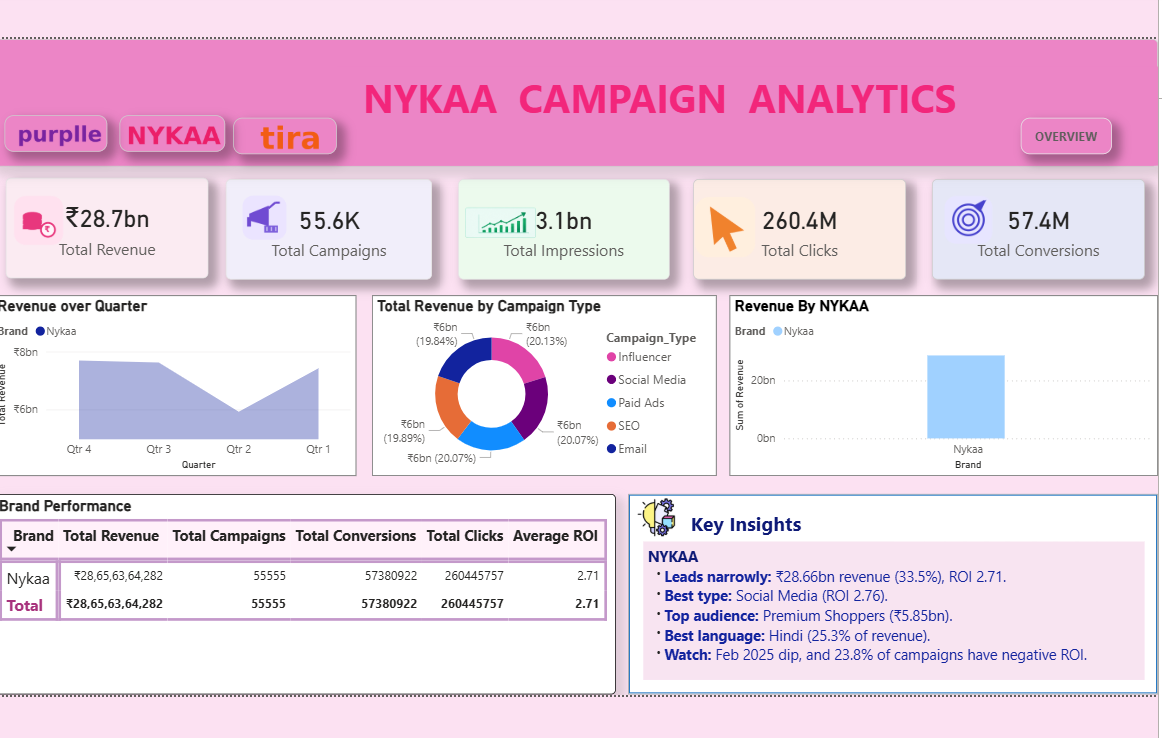

This screenshot's page, from the dashboard's own definition file:
{"tool":"powerbi","page":{"name":"NYKAA","canvas":[1280,720],"ordinal":1},"visuals":[{"type":"card","fields":{"Values":["Tira_Purplle_Nykaa_Marketing_Campaign_Analytics_166665.Total Campaigns"]},"box":[256.7,153.3,226.7,110],"z":0},{"type":"card","fields":{"Values":["Tira_Purplle_Nykaa_Marketing_Campaign_Analytics_166665.Total Impressions"]},"box":[511.7,153.3,231.7,110],"z":1000},{"type":"card","fields":{"Values":["Tira_Purplle_Nykaa_Marketing_Campaign_Analytics_166665.Total Revenue"]},"box":[14.7,152.9,222.6,110.1],"z":2000},{"type":"card","fields":{"Values":["Tira_Purplle_Nykaa_Marketing_Campaign_Analytics_166665.Total Clicks"]},"box":[770,153.3,233.3,110],"z":3000},{"type":"card","fields":{"Values":["Tira_Purplle_Nykaa_Marketing_Campaign_Analytics_166665.Total Conversions"]},"box":[1031.7,153.3,233.3,110],"z":4000},{"type":"textbox","box":[0,0,1280.3,140],"z":5000},{"type":"areaChart","title":"Revenue over Quarter","fields":{"Category":["Tira_Purplle_Nykaa_Marketing_Campaign_Analytics_166665.Date.Variation.Date Hierarchy.Year","Tira_Purplle_Nykaa_Marketing_Campaign_Analytics_166665.Date.Variation.Date Hierarchy.Quarter","Tira_Purplle_Nykaa_Marketing_Campaign_Analytics_166665.Date.Variation.Date Hierarchy.Month","Tira_Purplle_Nykaa_Marketing_Campaign_Analytics_166665.Date.Variation.Date Hierarchy.Day"],"Y":["Tira_Purplle_Nykaa_Marketing_Campaign_Analytics_166665.Total Revenue"],"Series":["Tira_Purplle_Nykaa_Marketing_Campaign_Analytics_166665.Brand"]},"box":[0,281.7,400,198.3],"z":6000},{"type":"donutChart","title":"Total Revenue by Campaign Type","fields":{"Category":["Tira_Purplle_Nykaa_Marketing_Campaign_Analytics_166665.Campaign_Type"],"Y":["Tira_Purplle_Nykaa_Marketing_Campaign_Analytics_166665.Total Revenue"]},"box":[416.7,281.7,378.3,198.3],"z":7000},{"type":"clusteredColumnChart","title":"Revenue By NYKAA","fields":{"Y":["Sum(Tira_Purplle_Nykaa_Marketing_Campaign_Analytics_166665.Revenue)"],"Category":["Tira_Purplle_Nykaa_Marketing_Campaign_Analytics_166665.Brand"],"Series":["Tira_Purplle_Nykaa_Marketing_Campaign_Analytics_166665.Brand"]},"box":[810,281.7,470,198.3],"z":8000},{"type":"pivotTable","title":"Brand Performance","fields":{"Rows":["Tira_Purplle_Nykaa_Marketing_Campaign_Analytics_166665.Brand"],"Values":["Tira_Purplle_Nykaa_Marketing_Campaign_Analytics_166665.Total Revenue","Tira_Purplle_Nykaa_Marketing_Campaign_Analytics_166665.Total Campaigns","Tira_Purplle_Nykaa_Marketing_Campaign_Analytics_166665.Total Conversions","Tira_Purplle_Nykaa_Marketing_Campaign_Analytics_166665.Total Clicks","Tira_Purplle_Nykaa_Marketing_Campaign_Analytics_166665.Average ROI"]},"box":[0,500.1,684.8,220.1],"z":9000},{"type":"shape","box":[698.3,500,581.7,220],"z":10000},{"type":"textbox","box":[715,511.7,551.7,40],"z":11000},{"type":"image","box":[114.9,63.6,168.8,81.9],"z":12000},{"type":"image","box":[0,64.8,149.2,81.9],"z":13000},{"type":"image","box":[222.6,6.1,211.6,201.8],"z":14000},{"type":"image","box":[1002.7,163.9,137,70.9],"z":15000},{"type":"image","box":[761.7,163.3,86.7,86.7],"z":16000},{"type":"image","box":[256.8,163.9,84.4,66],"z":17000},{"type":"image","box":[14.7,121.1,72.1,156.5],"z":18000},{"type":"image","box":[511.7,140,93.3,123.3],"z":19000},{"type":"image","box":[681.7,500,95,51.7],"z":20000},{"type":"textbox","box":[379.1,30.6,901.2,108.8],"z":21000},{"type":"actionButton","title":" VVVVV","box":[1128.7,86.8,100.3,40.4],"z":22000},{"type":"actionButton","box":[13.5,84.4,112.5,40.4],"z":23000},{"type":"actionButton","box":[140.6,84.4,116.2,40.4],"z":24000},{"type":"actionButton","box":[265.4,86.8,113.7,40.4],"z":25000},{"type":"textbox","box":[714.9,551.6,550.3,152.3],"z":26000}]}

Visuals, with their boxes on the page's 1280x720 design canvas (x1, y1, x2, y2). These are canvas units, not pixel positions in the 1162x738 screenshot, which may show the page scaled, cropped or inside an application window:
card - Tira_Purplle_Nykaa_Marketing_Campaign_Analytics_166665.Total Campaigns: x1=257, y1=153, x2=483, y2=263
card - Tira_Purplle_Nykaa_Marketing_Campaign_Analytics_166665.Total Impressions: x1=512, y1=153, x2=743, y2=263
card - Tira_Purplle_Nykaa_Marketing_Campaign_Analytics_166665.Total Revenue: x1=15, y1=153, x2=237, y2=263
card - Tira_Purplle_Nykaa_Marketing_Campaign_Analytics_166665.Total Clicks: x1=770, y1=153, x2=1003, y2=263
card - Tira_Purplle_Nykaa_Marketing_Campaign_Analytics_166665.Total Conversions: x1=1032, y1=153, x2=1265, y2=263
textbox: x1=0, y1=0, x2=1280, y2=140
"Revenue over Quarter" areaChart: x1=0, y1=282, x2=400, y2=480
"Total Revenue by Campaign Type" donutChart: x1=417, y1=282, x2=795, y2=480
"Revenue By NYKAA" clusteredColumnChart: x1=810, y1=282, x2=1280, y2=480
"Brand Performance" pivotTable: x1=0, y1=500, x2=685, y2=720
shape: x1=698, y1=500, x2=1280, y2=720
textbox: x1=715, y1=512, x2=1267, y2=552
image: x1=115, y1=64, x2=284, y2=146
image: x1=0, y1=65, x2=149, y2=147
image: x1=223, y1=6, x2=434, y2=208
image: x1=1003, y1=164, x2=1140, y2=235
image: x1=762, y1=163, x2=848, y2=250
image: x1=257, y1=164, x2=341, y2=230
image: x1=15, y1=121, x2=87, y2=278
image: x1=512, y1=140, x2=605, y2=263
image: x1=682, y1=500, x2=777, y2=552
textbox: x1=379, y1=31, x2=1280, y2=139
" VVVVV" actionButton: x1=1129, y1=87, x2=1229, y2=127
actionButton: x1=14, y1=84, x2=126, y2=125
actionButton: x1=141, y1=84, x2=257, y2=125
actionButton: x1=265, y1=87, x2=379, y2=127
textbox: x1=715, y1=552, x2=1265, y2=704
